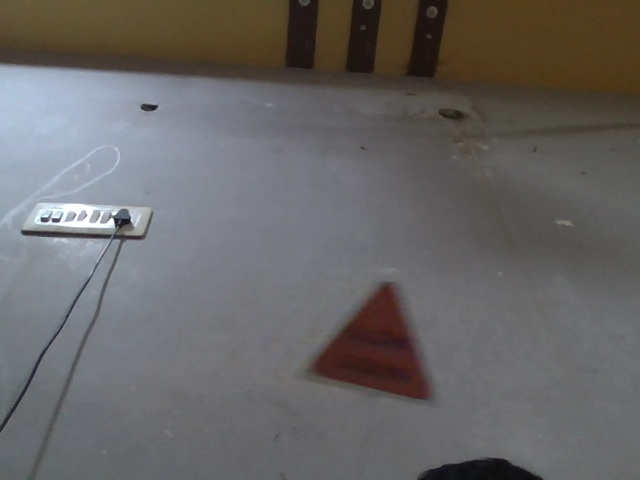slowdown: (300, 241, 428, 409)
